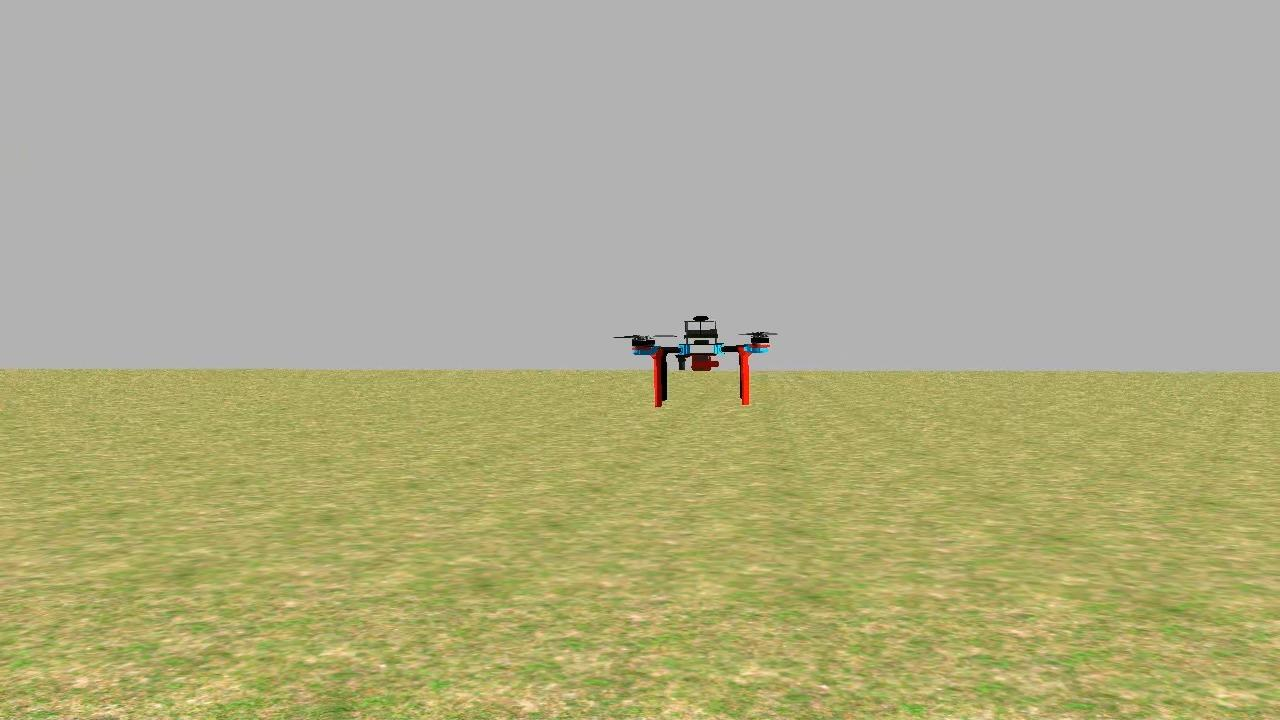UAV: (623, 300, 792, 429)
